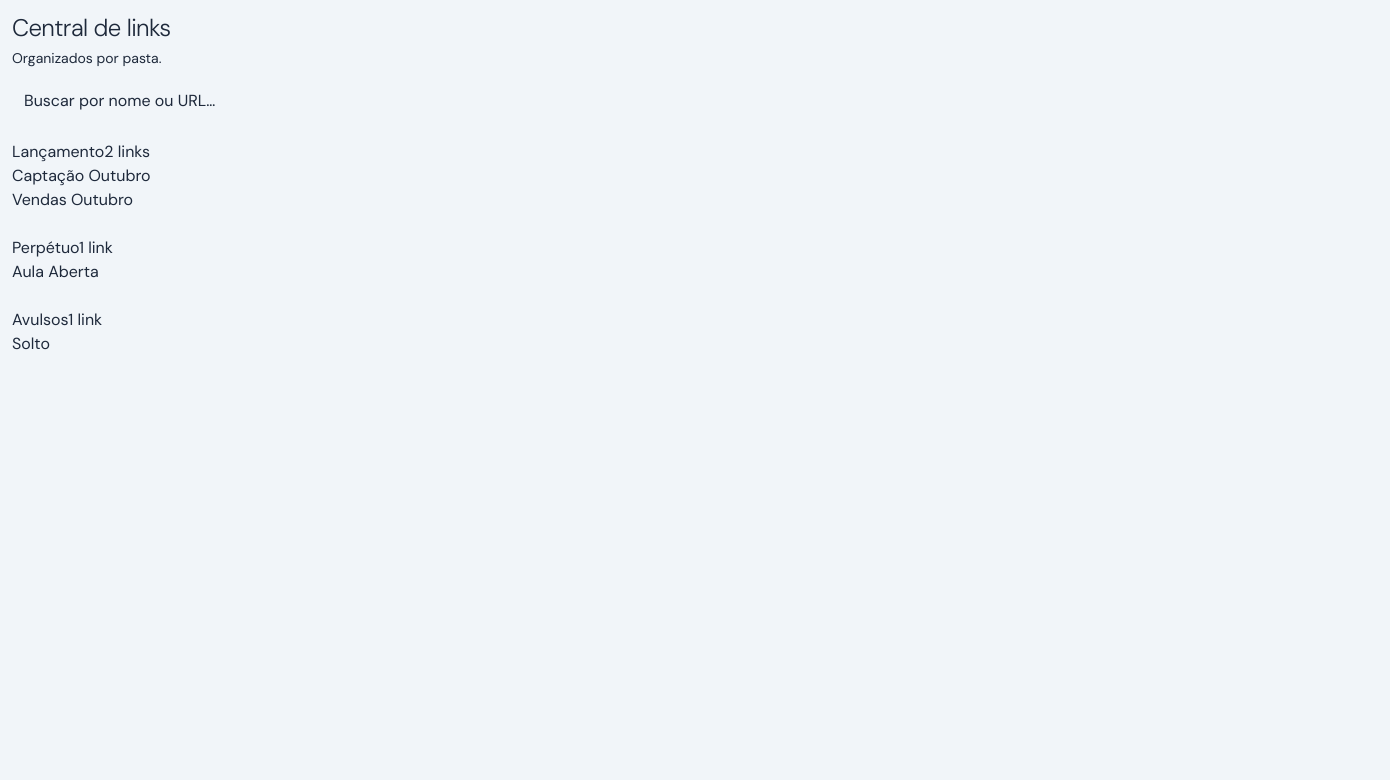
it: Central de links: pastas em linhas › clicar na relação de links ao lado da pasta também abre a pasta
expect the element named "Pastas" is shown: met, box [12,140,151,356]
Step 1. Click the element with test id "previa-Perpétuo" → (55, 272), box [12,260,99,284]
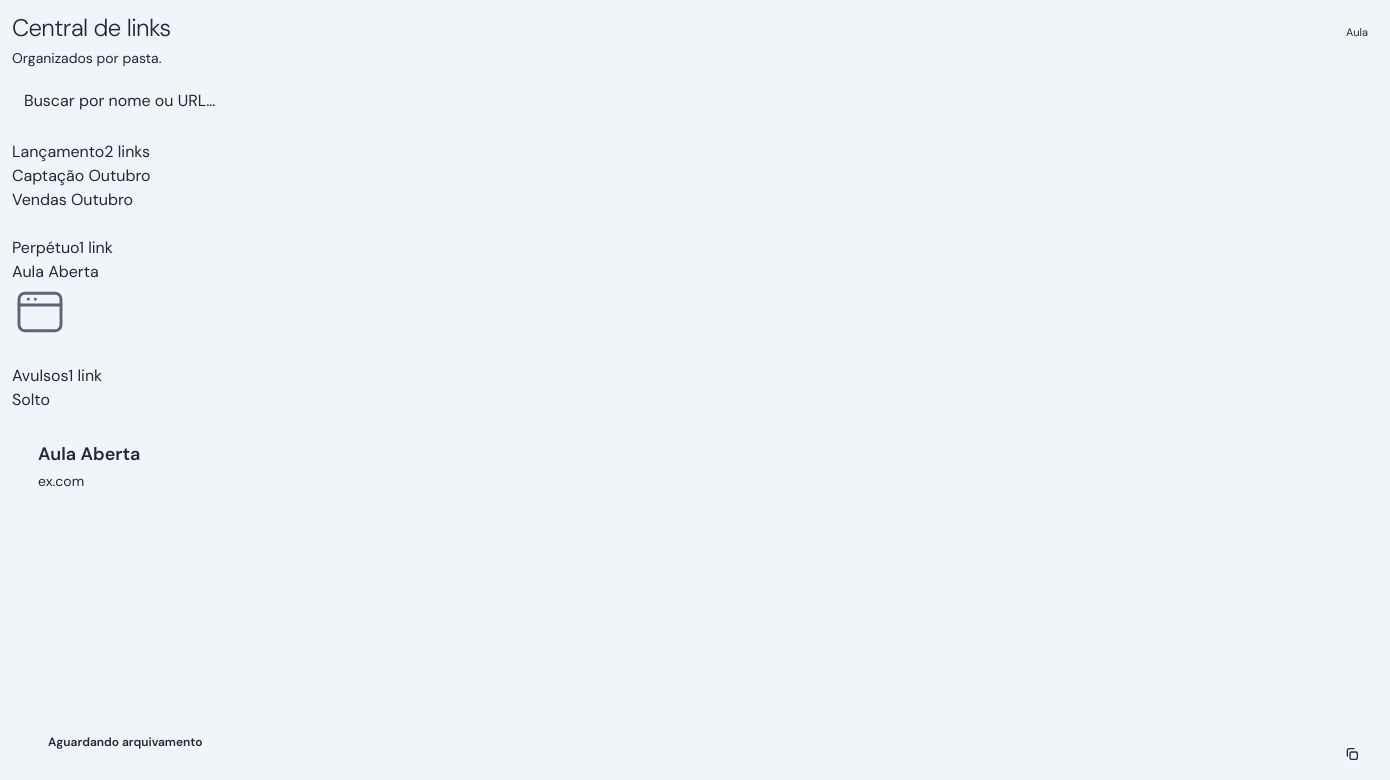
expect the element named "Perpétuo" is shown: met, box [12,284,68,340]
